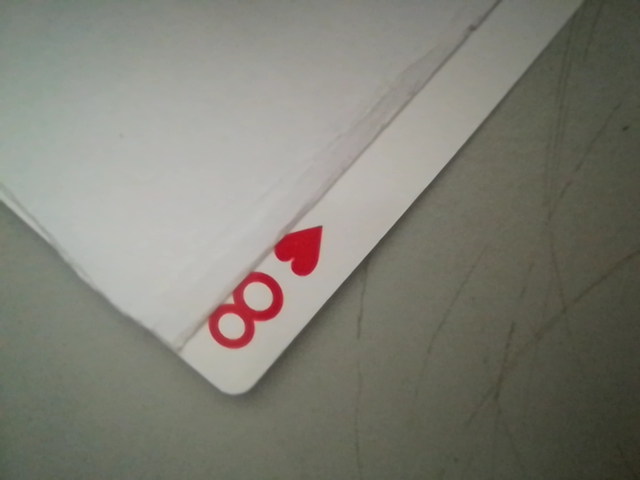hx 8: (192, 221, 327, 372)
